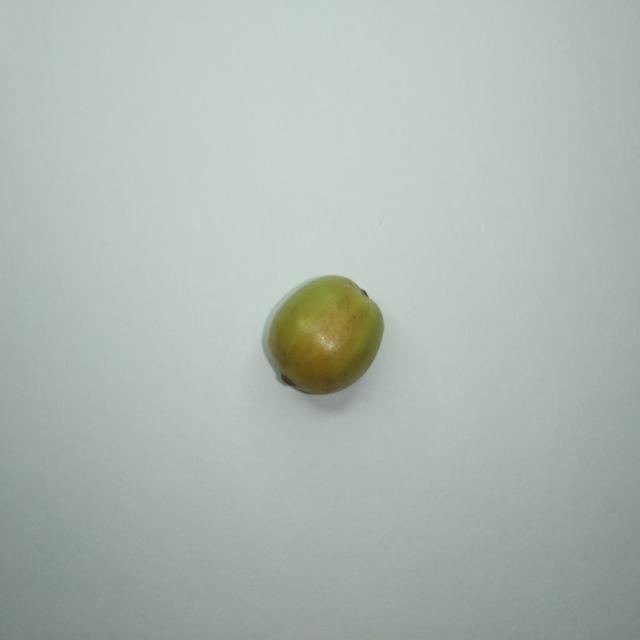Sano: (263, 276, 383, 394)
